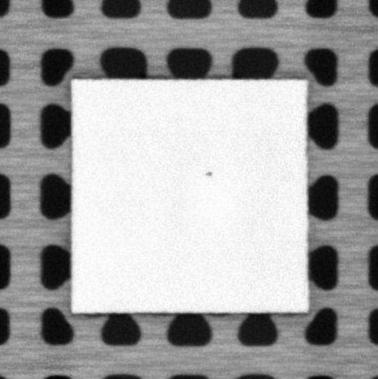DIE_INK: (204, 168, 212, 177)
